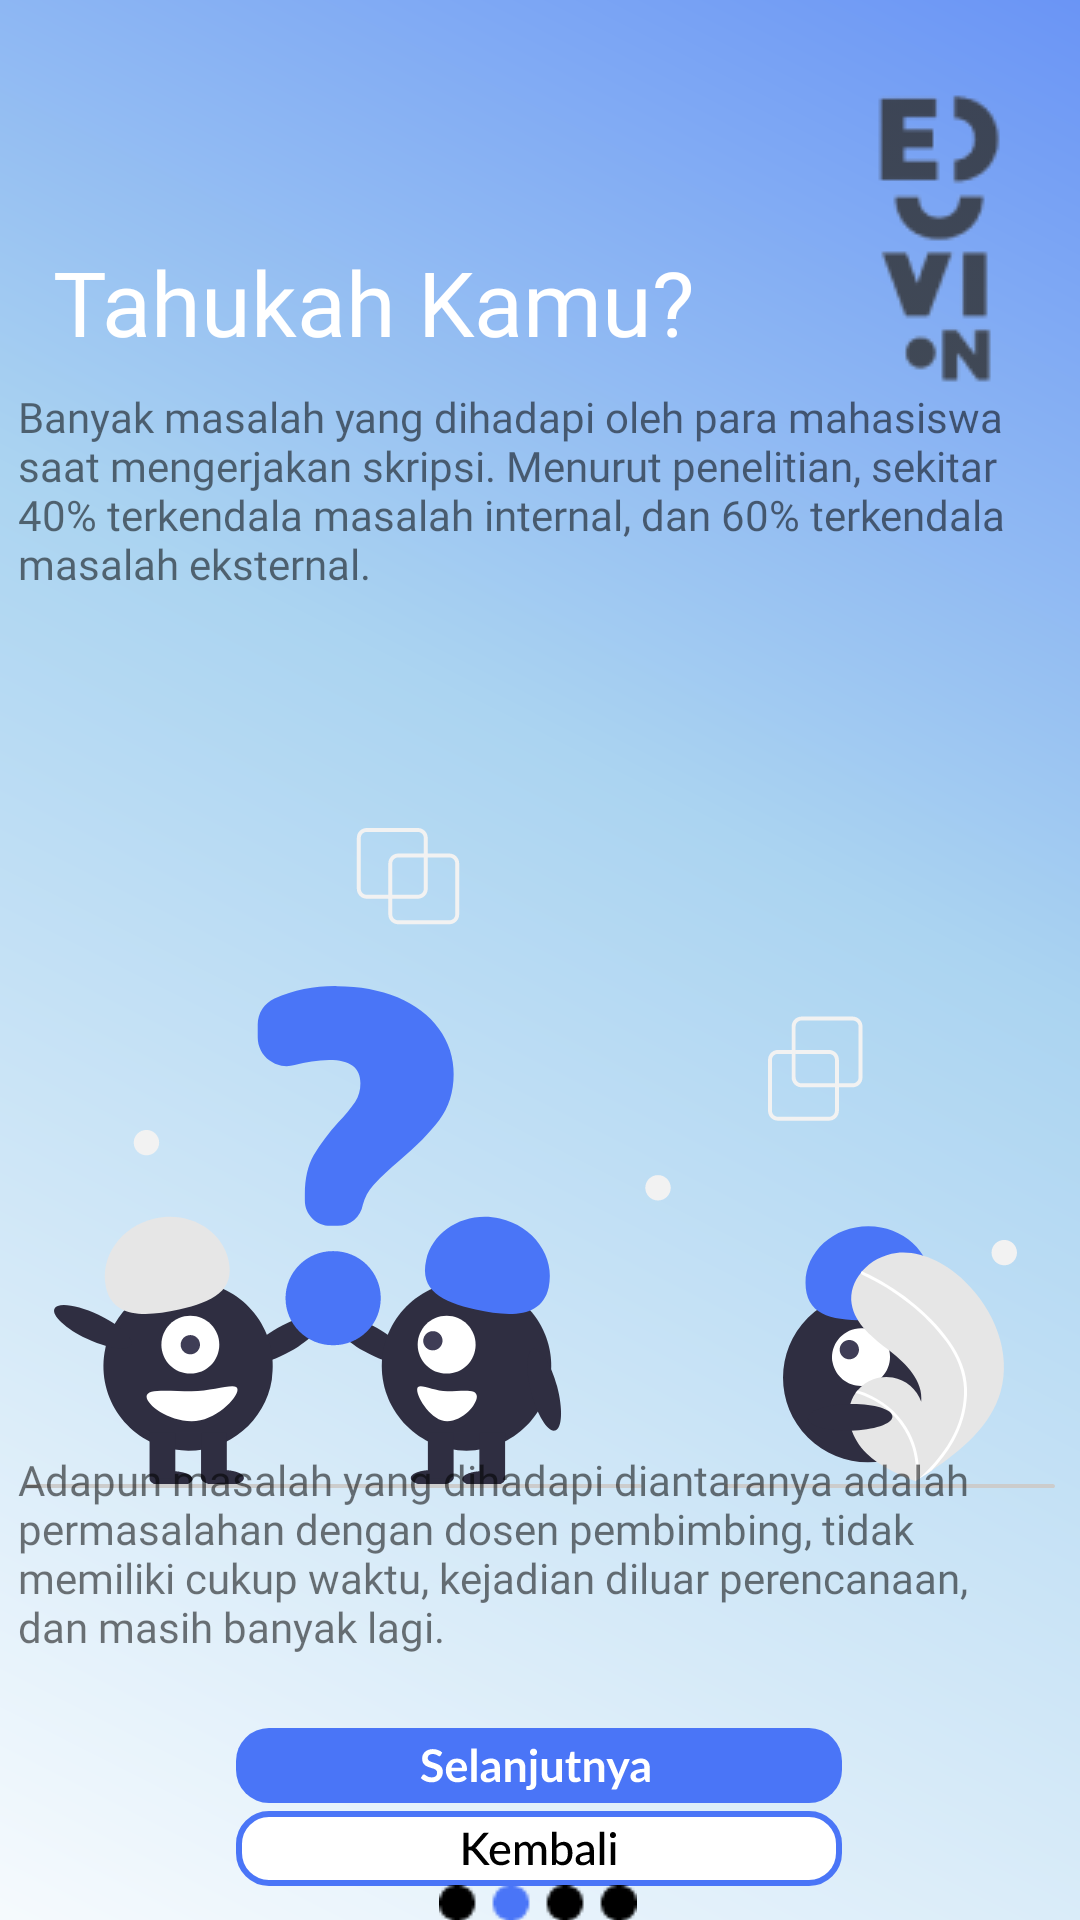

Named icons in this screenshot (1080*1920) and their bounding boxes, region(x1, y1, x2, y2):
halaman 2: region(439, 1885, 637, 1920)
